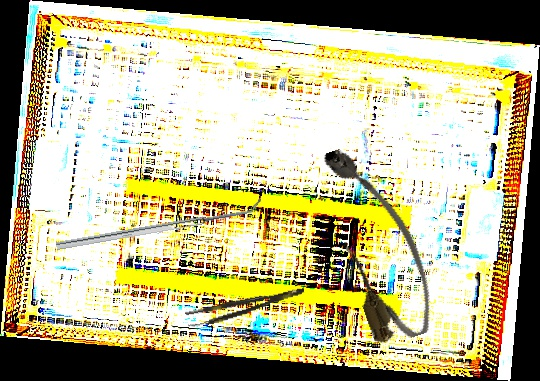Cannula: (311, 135, 445, 350)
Spatula Surgical: (54, 197, 264, 251)
Tissue Forceps: (184, 286, 308, 329)
